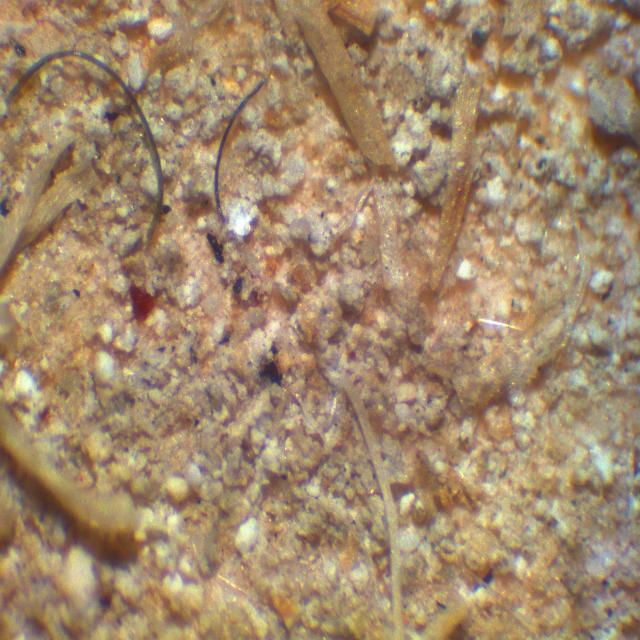microplastic: (3, 51, 164, 242), (213, 79, 266, 221)
